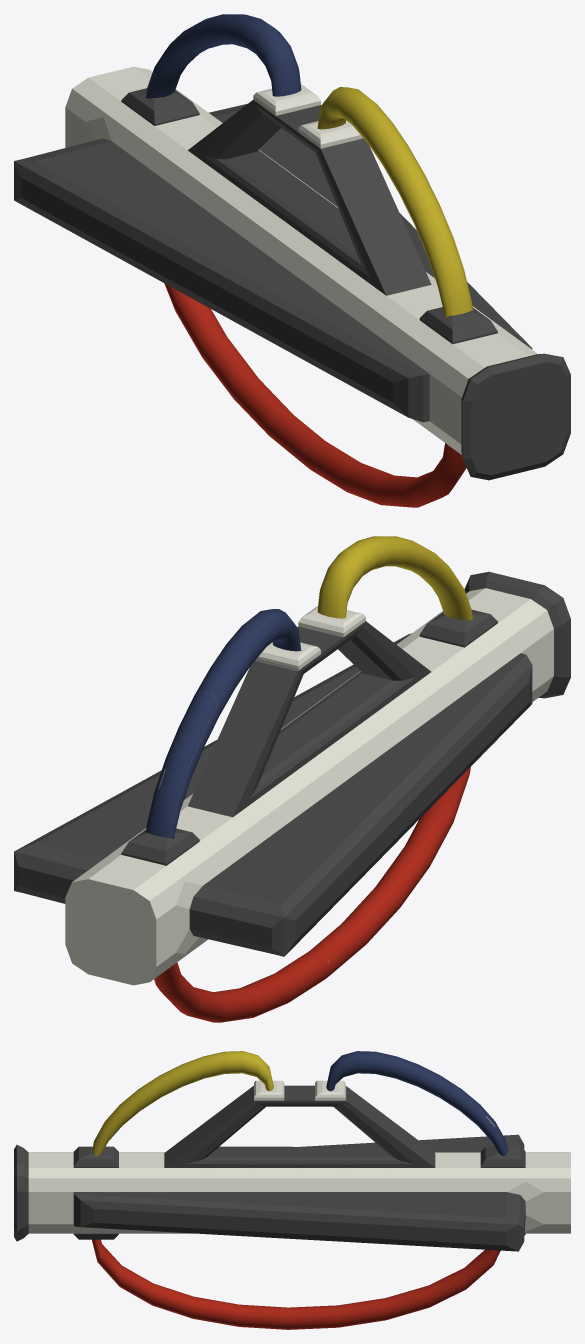
The model's file is SpiderTip.fbx.
3 renders of one model, top to bottom at view 1: azimuth 30°, elevation 25°; view 2: azimuth 150°, elevation 25°; view 3: azimuth 270°, elevation 25°, orthographic. The views are drawn at different scales.
Parts seen in each view (by area): view 1: Cube.001; view 2: Cube.001; view 3: Cube.001.
Part boxes in pixels (x1,y1,x2,y2): Cube.001: (14, 14, 570, 507); Cube.001: (14, 536, 570, 1022); Cube.001: (14, 1051, 570, 1329).
Bounding box in the file's own units: 48.12 × 68.1 × 124.
